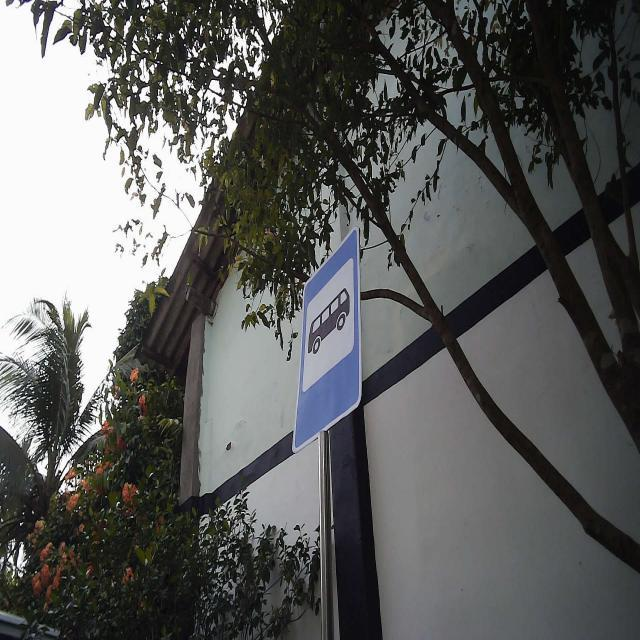bus_stop: (291, 225, 363, 456)
